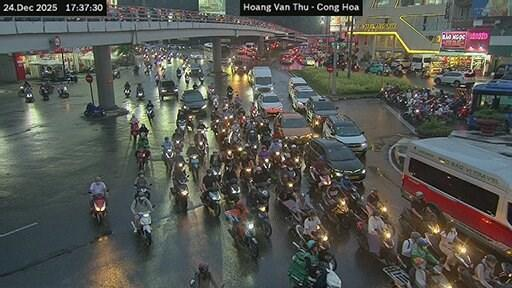motorbike: (224, 210, 258, 256), (317, 193, 352, 233), (371, 225, 404, 266), (397, 207, 438, 234), (409, 262, 451, 287), (339, 184, 367, 220), (314, 226, 335, 269), (288, 253, 314, 286), (252, 201, 272, 238), (170, 174, 188, 210), (319, 261, 342, 287), (131, 211, 149, 244), (307, 167, 330, 192), (201, 187, 220, 216), (220, 178, 239, 206), (492, 262, 511, 287), (90, 194, 106, 223), (253, 183, 268, 211), (355, 219, 368, 250), (195, 130, 207, 157), (458, 269, 476, 287), (278, 180, 294, 198), (83, 103, 105, 116), (294, 224, 306, 247), (163, 148, 173, 174), (172, 154, 185, 174), (188, 153, 198, 179), (259, 130, 272, 148), (137, 148, 147, 170), (240, 166, 250, 187), (134, 185, 150, 197), (259, 157, 272, 171), (211, 162, 220, 181), (41, 82, 54, 94), (176, 118, 185, 135), (173, 135, 182, 152), (130, 122, 137, 142), (224, 148, 233, 163), (272, 151, 281, 166), (58, 85, 69, 97), (185, 113, 192, 130), (39, 86, 48, 99), (294, 242, 304, 253), (146, 107, 153, 121), (188, 278, 198, 287), (25, 90, 32, 102), (112, 68, 120, 77), (135, 90, 143, 99), (226, 89, 233, 99), (211, 97, 217, 108), (207, 85, 214, 94), (18, 86, 25, 95), (133, 64, 138, 75), (124, 88, 130, 97), (192, 81, 198, 89), (176, 70, 181, 79), (155, 74, 159, 85), (198, 75, 202, 84), (185, 73, 188, 85), (144, 68, 149, 75), (207, 94, 212, 99), (220, 283, 224, 287), (250, 183, 252, 184)
